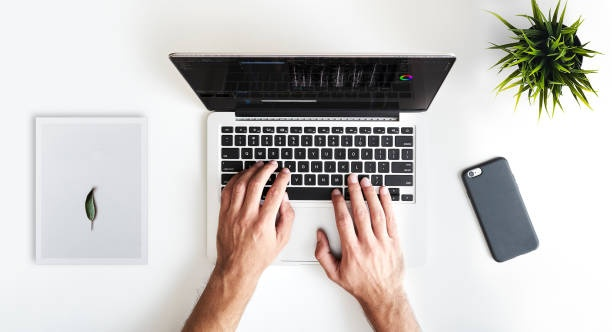keyboard: (218, 122, 416, 206)
laptop: (164, 51, 457, 267)
phone: (460, 156, 542, 264)
